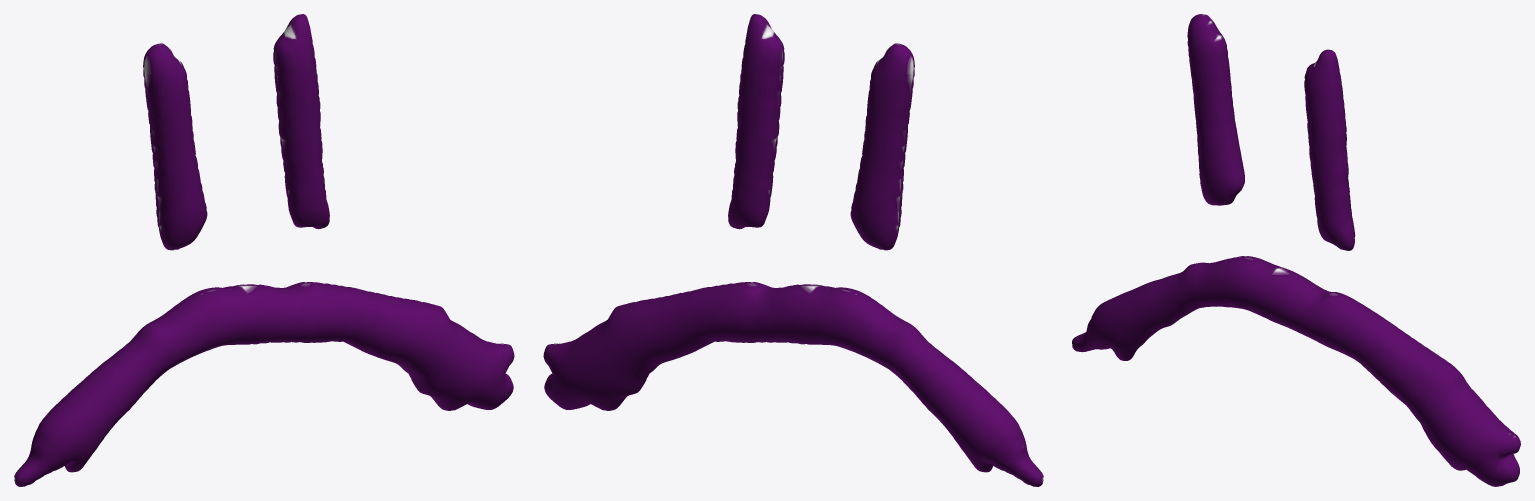
3 renders of one model, left to right at view 1: azimuth 30°, elevation 25°; view 2: azimuth 150°, elevation 25°; view 3: azimuth 330°, elevation 25°, orthographic. The views are drawn at different scales.
Bounding box in the file's own units: 4.91 × 4.19 × 0.6019.
1 material, 1 textured.
